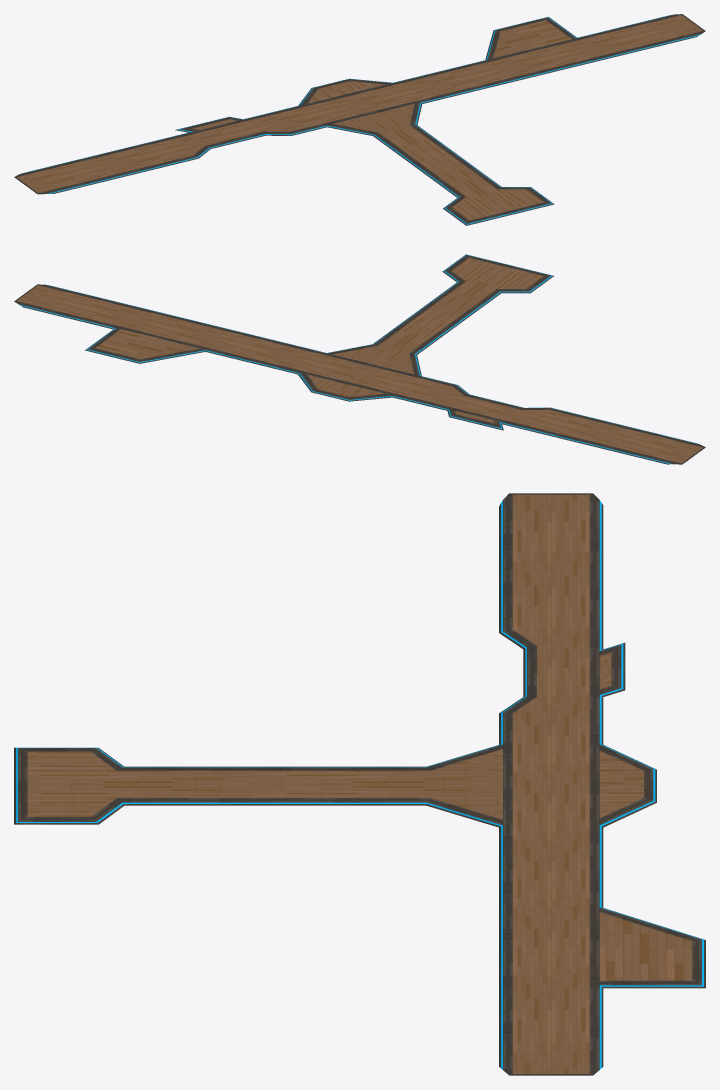
File: MainFloor_Pattern.fbx
3 renders of one model, top to bottom at view 1: azimuth 30°, elevation 25°; view 2: azimuth 150°, elevation 25°; view 3: azimuth 270°, elevation 25°, orthographic. The views are drawn at different scales.
Visible parts, largest first — view 1: MainFloor_Pattern; view 2: MainFloor_Pattern; view 3: MainFloor_Pattern.
Boxes of the visible parts, x1,y1,x2,y2 form: MainFloor_Pattern: (14,14,705,225); MainFloor_Pattern: (14,254,705,464); MainFloor_Pattern: (14,493,705,1075).
Bounding box in the file's own units: 7707 × 11.03 × 3869.
